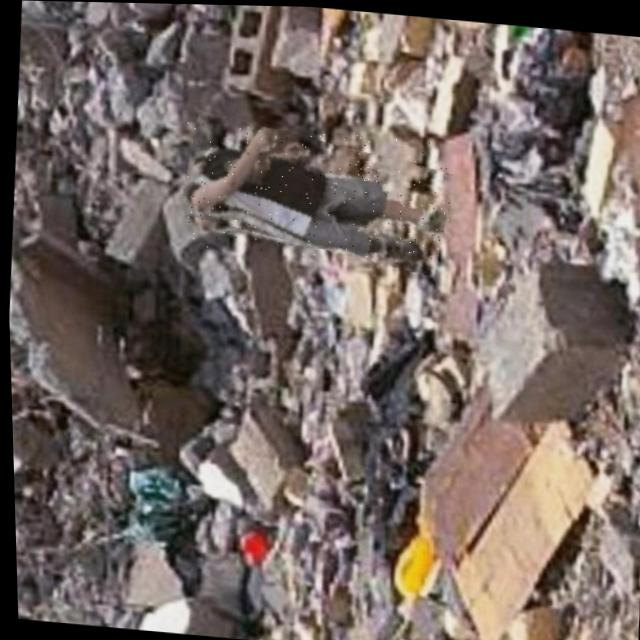Person in Rubble: (176, 117, 455, 266)
